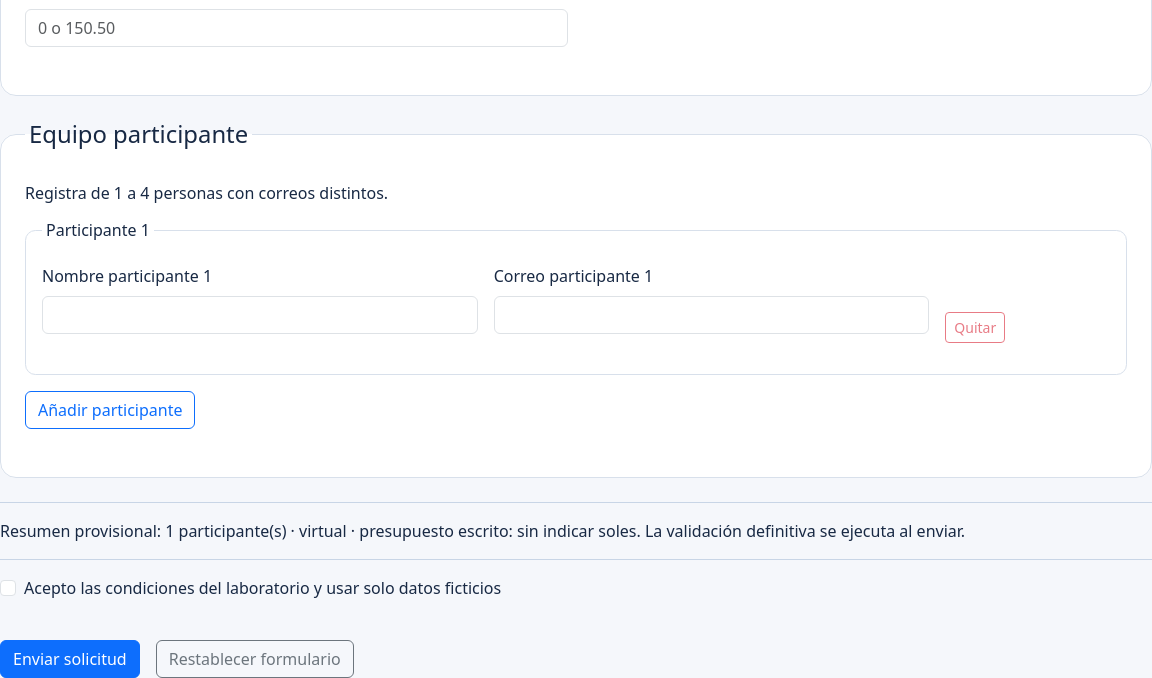
Test case: RegistrationForm › stops adding after four people
(page scrolled)
Click the button "Añadir participante": (110, 410) [25,391,196,429]
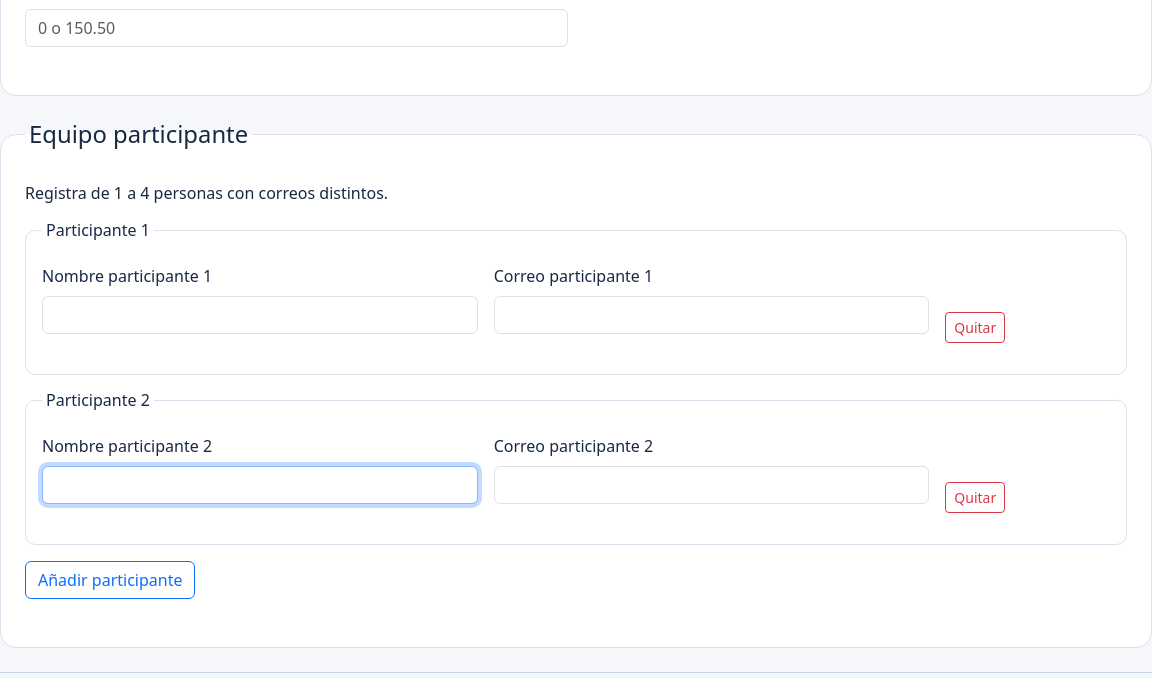
Click the button "Añadir participante": (110, 580) [25,561,196,599]
(page scrolled)
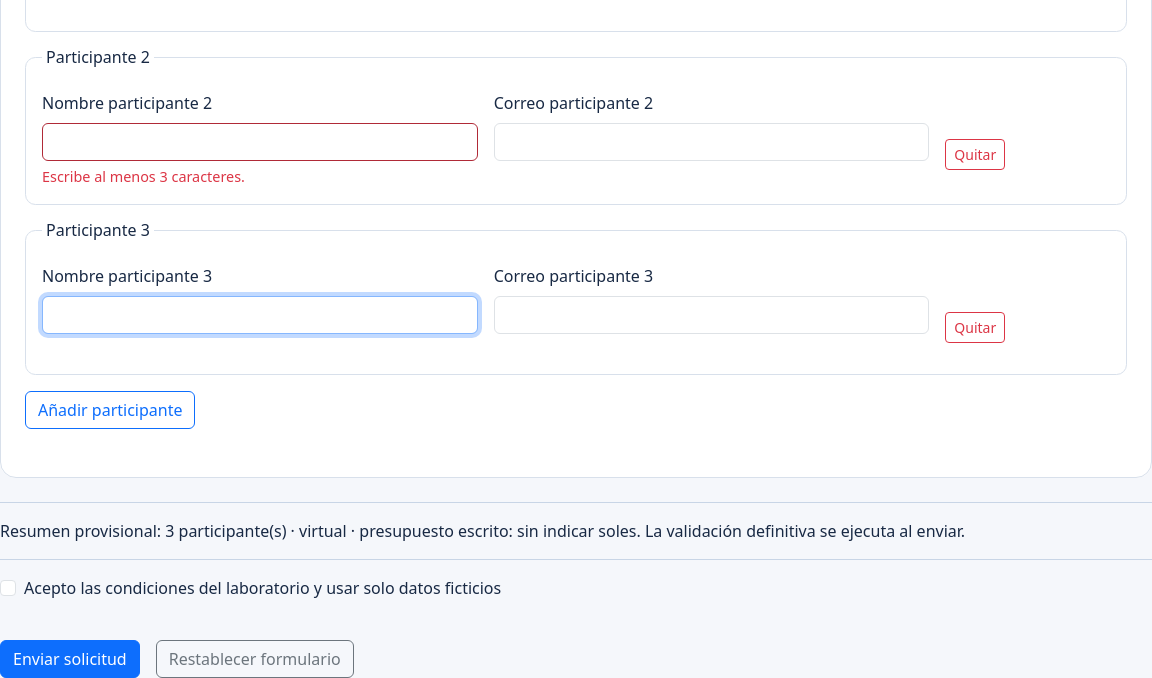
Click the button "Añadir participante": (110, 410) [25,391,196,429]
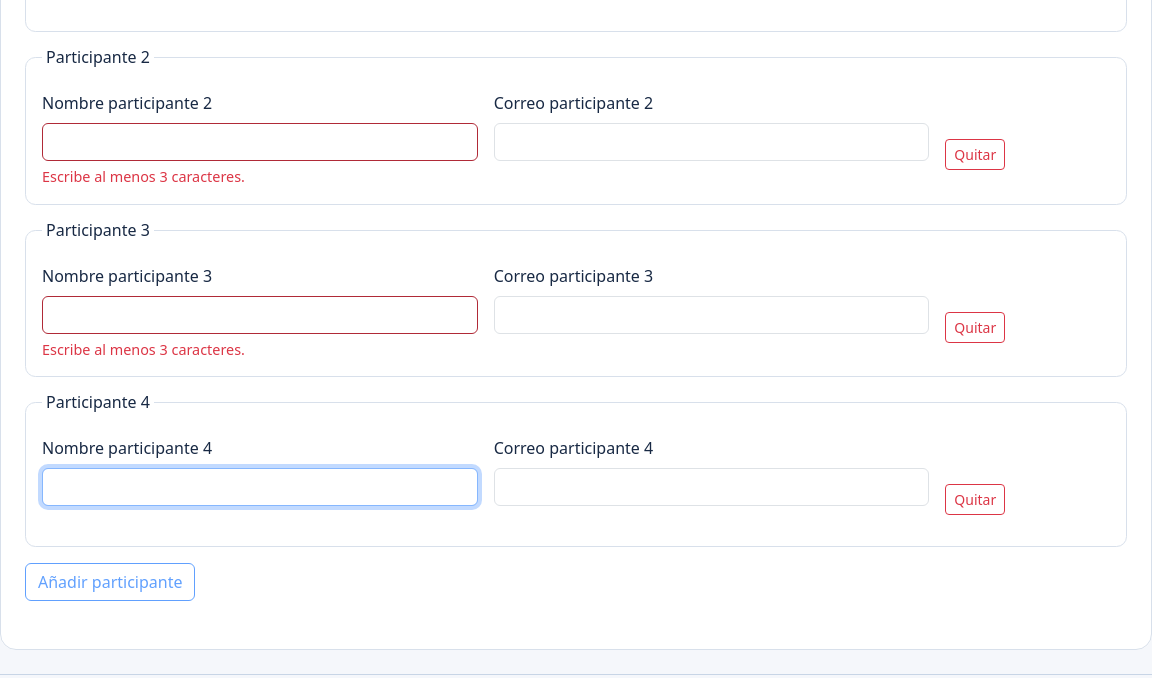
Now the button "Añadir participante" is disabled, box [25,563,196,601]
Now the field labelled "Nombre participante 4" is shown, box [42,468,478,506]
